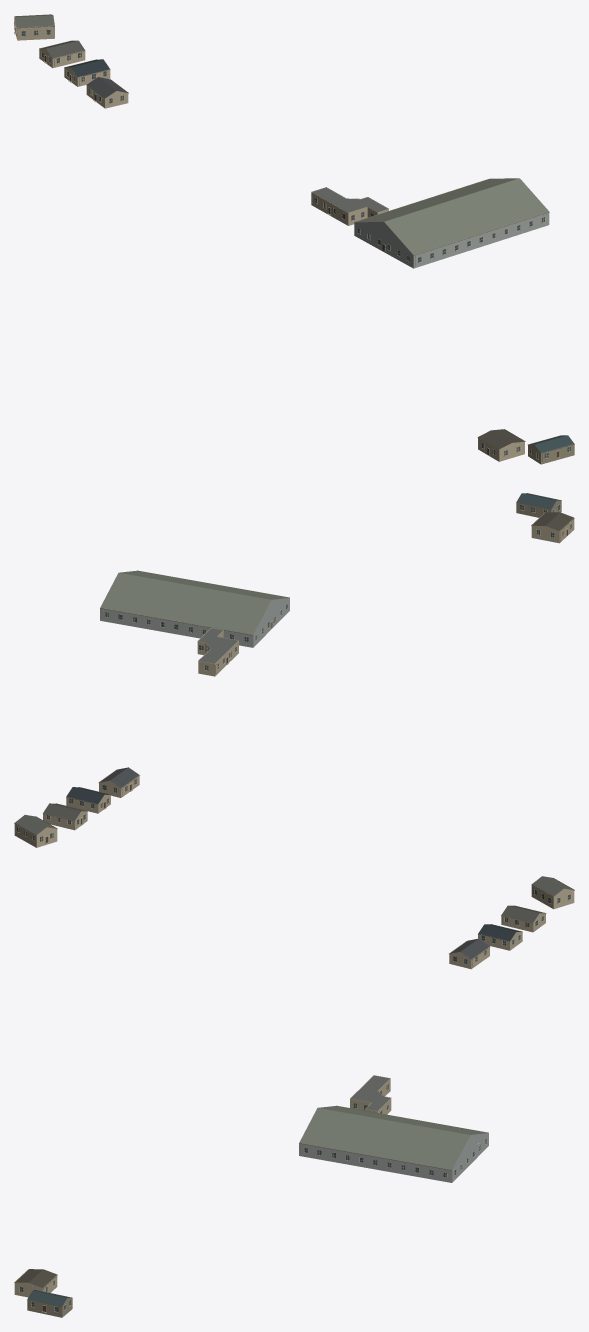
3 views of the same model, one above another, from view 1: azimuth 30°, elevation 25°; view 2: azimuth 150°, elevation 25°; view 3: azimuth 330°, elevation 25° (orthographic). The views are drawn at different scales.
Parts seen in each view (by area): view 1: -1_10_599463994_4, -1_10_608377040_9; view 2: -1_10_599463994_4, -1_10_608377040_9; view 3: -1_10_599463994_4, -1_10_608377040_9.
Boxes of the visible parts, x1,y1,x2,y2 form: -1_10_599463994_4: [14, 14, 574, 461]; -1_10_608377040_9: [14, 16, 524, 461]; -1_10_599463994_4: [14, 493, 574, 843]; -1_10_608377040_9: [14, 518, 574, 847]; -1_10_599463994_4: [14, 876, 574, 1312]; -1_10_608377040_9: [14, 884, 574, 1297].
Size of the model in its own units: 93.34 by 21.91 by 340.
